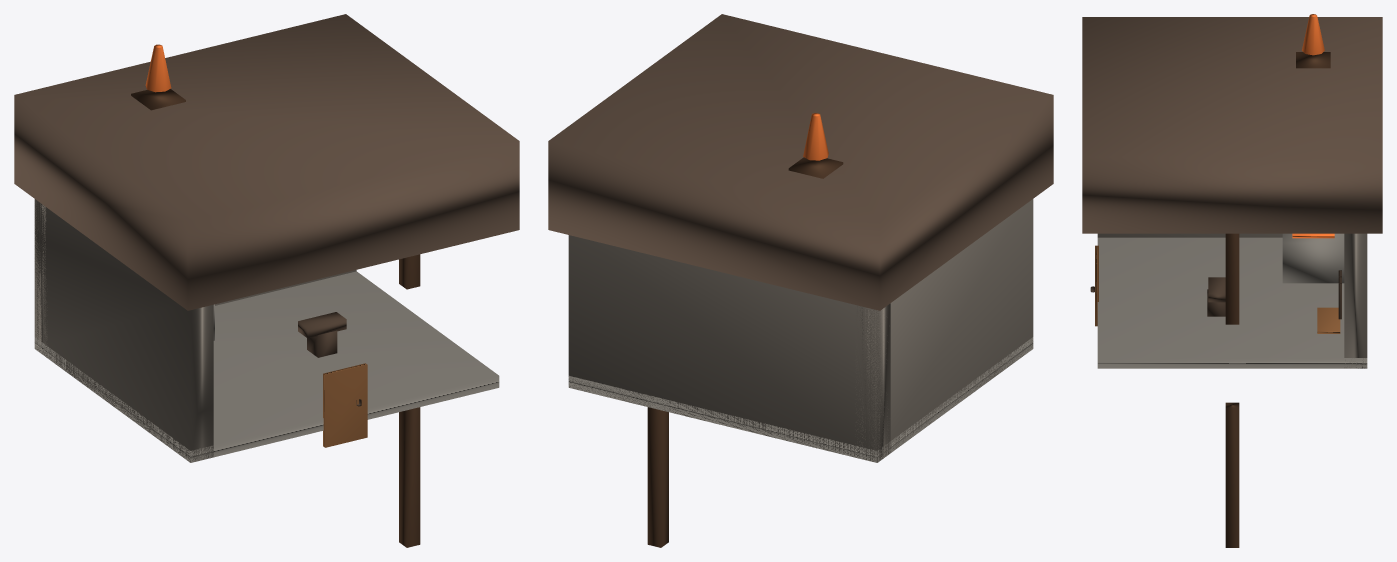
Rendered from blacksmith.glb.
3 renders of one model, left to right at view 1: azimuth 30°, elevation 25°; view 2: azimuth 150°, elevation 25°; view 3: azimuth 270°, elevation 25°, orthographic. The views are drawn at different scales.
Visible parts, largest first — view 1: roof, floor, left_wall, door, corner3, back_wall, anvil_top, forge_smoke, forge_chimney, corner1, anvil_base; view 2: roof, back_wall, left_wall, floor, corner3, forge_smoke, forge_chimney; view 3: roof, floor, back_wall, forge_base, corner3, corner1, left_wall, forge_smoke, workbench, forge_chimney, anvil_top.
Part boxes in pixels (x1,y1,x2,y2): roof: (14, 14, 519, 310); floor: (34, 271, 499, 462); left_wall: (34, 199, 213, 462); door: (323, 363, 367, 447); corner3: (399, 407, 420, 547); back_wall: (34, 199, 356, 354); anvil_top: (298, 312, 346, 338); forge_smoke: (145, 44, 171, 92); forge_chimney: (131, 89, 185, 110); corner1: (399, 254, 420, 289); anvil_base: (307, 330, 337, 357); roof: (548, 14, 1053, 310); back_wall: (568, 235, 890, 462); left_wall: (855, 199, 1033, 460); floor: (568, 337, 1033, 462); corner3: (647, 407, 668, 547); forge_smoke: (803, 113, 828, 160); forge_chimney: (788, 157, 843, 178); roof: (1082, 17, 1382, 233); floor: (1097, 237, 1367, 368); back_wall: (1344, 233, 1367, 368); forge_base: (1282, 233, 1344, 283); corner3: (1225, 402, 1239, 547); corner1: (1225, 233, 1239, 324); left_wall: (1097, 233, 1282, 237); forge_smoke: (1302, 14, 1324, 55); workbench: (1317, 307, 1340, 333); forge_chimney: (1296, 52, 1330, 68); anvil_top: (1208, 277, 1225, 302).
Size of the model in its own units: 8.6 by 12.7 by 7.8.
